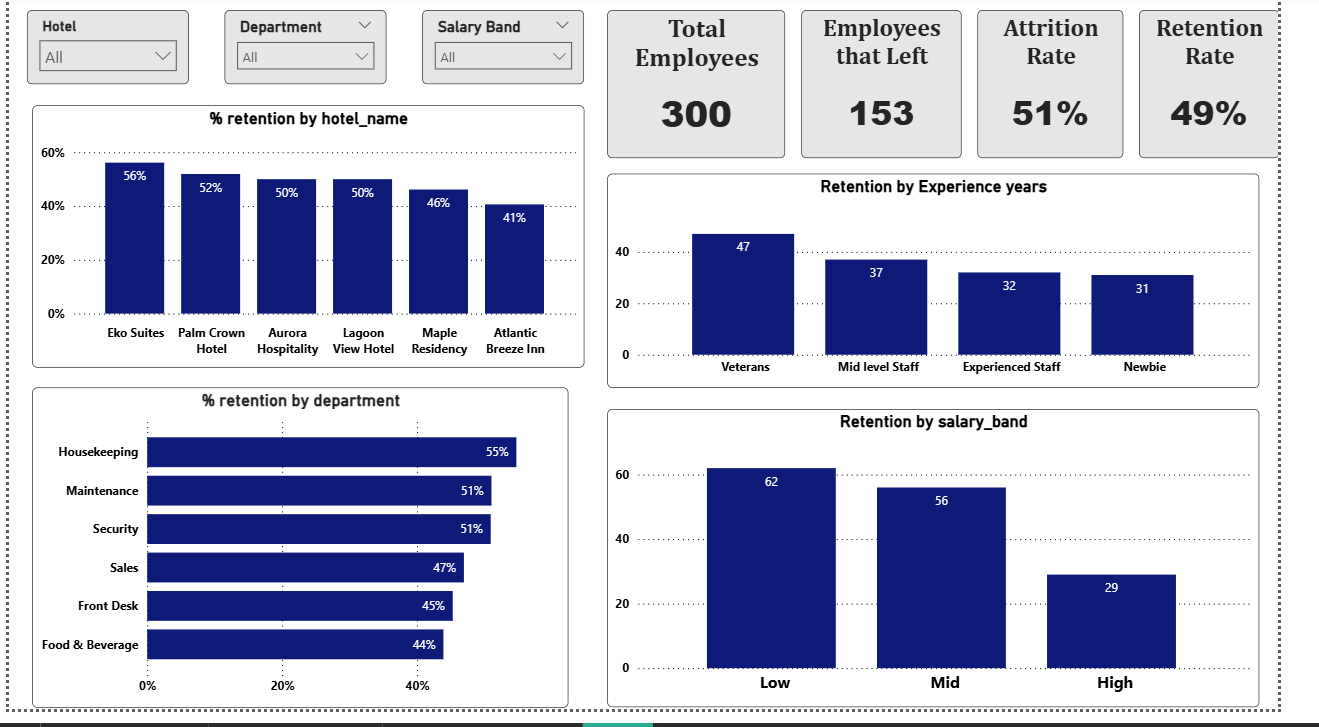

The page's visual inventory and layout, read from the dashboard file:
{"tool":"powerbi","page":{"name":"Retention","canvas":[1280,720],"ordinal":0},"visuals":[{"type":"slicer","fields":{"Values":["hospitality.hotel_name"]},"box":[18.1,16.1,163.3,74.6],"z":0},{"type":"slicer","fields":{"Values":["hospitality.department"]},"box":[217.8,16.1,163.3,74.6],"z":1000},{"type":"slicer","fields":{"Values":["hospitality.salary_band"]},"box":[417.4,16.1,163.3,74.6],"z":2000},{"type":"card","title":"Total Employees","fields":{"Values":["All Measures.Total Emp"]},"box":[602.9,16.1,179.4,149.2],"z":3000},{"type":"card","title":"Attrition Rate","fields":{"Values":["All Measures.% attrition"]},"box":[975.9,16.1,147.2,149.2],"z":4000},{"type":"card","title":"Retention Rate","fields":{"Values":["All Measures.% retention"]},"box":[1139.2,16.1,141.1,149.2],"z":5000},{"type":"card","title":"Employees that Left","fields":{"Values":["All Measures.Attrition"]},"box":[798.4,16.1,161.3,149.2],"z":6000},{"type":"clusteredBarChart","fields":{"Y":["All Measures.% retention"],"Category":["hospitality.department"]},"box":[24.2,397.2,540.4,322.6],"z":7000},{"type":"clusteredColumnChart","fields":{"Y":["All Measures.% retention"],"Category":["hospitality.hotel_name"]},"box":[24.2,112.9,556.5,264.1],"z":8000},{"type":"clusteredColumnChart","fields":{"Category":["hospitality.salary_band"],"Y":["All Measures.Retention"]},"box":[602.9,419.4,657.3,300.4],"z":9000},{"type":"columnChart","fields":{"Category":["hospitality.Experience years"],"Y":["All Measures.Retention"]},"box":[602.9,181.5,657.3,215.7],"z":10000}]}

Visuals, with their boxes in screenshot pixels (x1, y1, x2, y2), scaled from the page's 1280x720 canvas onto the 1319x727 screenshot:
slicer - hospitality.hotel_name: pyautogui.locateOnScreen(19, 16, 187, 92)
slicer - hospitality.department: pyautogui.locateOnScreen(224, 16, 393, 92)
slicer - hospitality.salary_band: pyautogui.locateOnScreen(430, 16, 598, 92)
"Total Employees" card: pyautogui.locateOnScreen(621, 16, 806, 167)
"Attrition Rate" card: pyautogui.locateOnScreen(1006, 16, 1157, 167)
"Retention Rate" card: pyautogui.locateOnScreen(1174, 16, 1318, 167)
"Employees that Left" card: pyautogui.locateOnScreen(823, 16, 989, 167)
clusteredBarChart - All Measures.% retention x hospitality.department: pyautogui.locateOnScreen(25, 401, 582, 726)
clusteredColumnChart - All Measures.% retention x hospitality.hotel_name: pyautogui.locateOnScreen(25, 114, 598, 381)
clusteredColumnChart - hospitality.salary_band x All Measures.Retention: pyautogui.locateOnScreen(621, 423, 1299, 726)
columnChart - hospitality.Experience years x All Measures.Retention: pyautogui.locateOnScreen(621, 183, 1299, 401)
